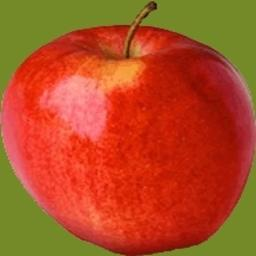apple: (0, 12, 255, 256)
